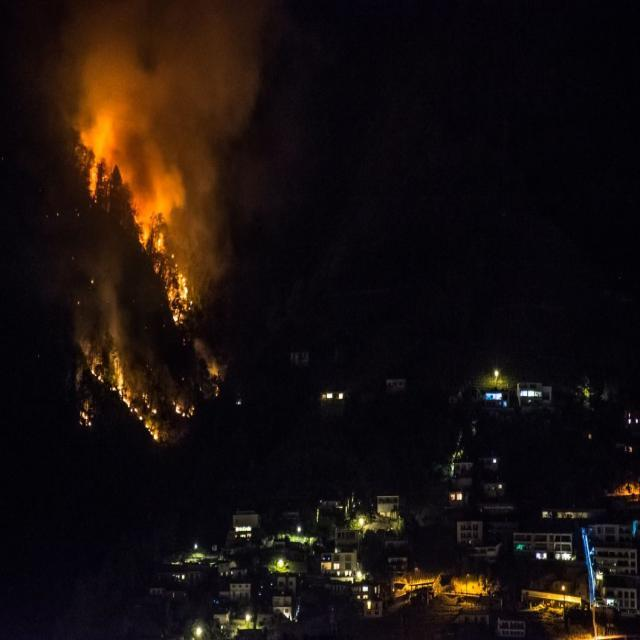Fire: (129, 210, 193, 326), (110, 351, 166, 442), (81, 129, 110, 201), (79, 338, 102, 381), (173, 396, 196, 418), (210, 359, 220, 397), (80, 403, 92, 428)
Smoke: (63, 8, 160, 122), (97, 237, 129, 349), (146, 133, 182, 219)
